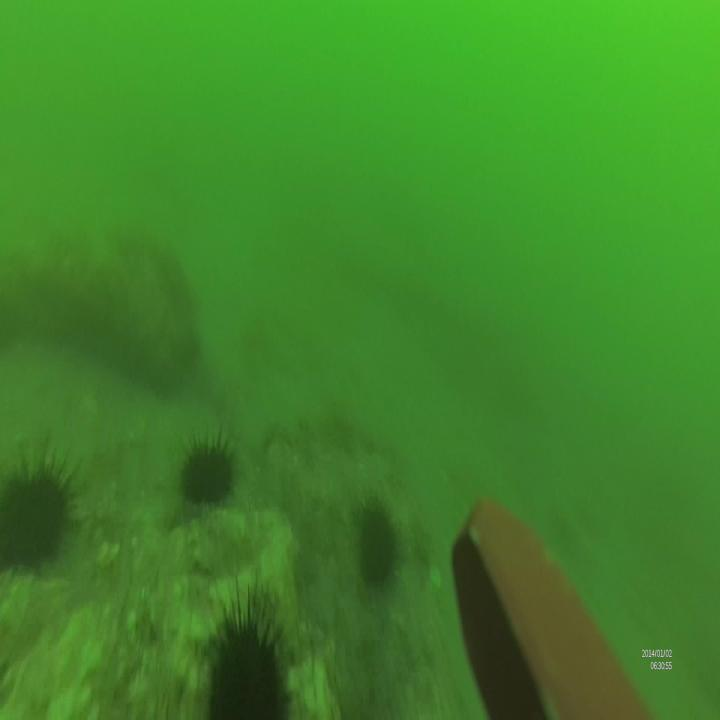echinus: (204, 581, 296, 720), (0, 442, 75, 570), (352, 496, 404, 590), (177, 433, 241, 503)
